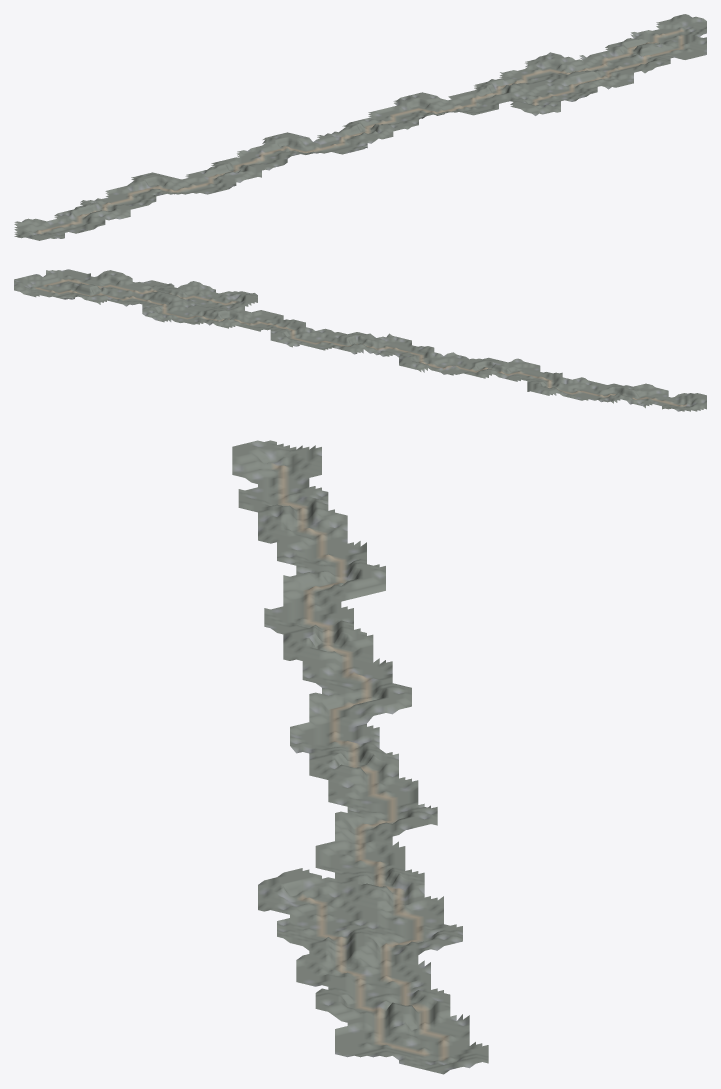
Rendered from terrain.glb.
The picture shows the model from 3 angles, top to bottom: view 1: azimuth 30°, elevation 25°; view 2: azimuth 150°, elevation 25°; view 3: azimuth 270°, elevation 25°; orthographic projection. The views are drawn at different scales.
Parts seen in each view (by area): view 1: NATURAL_10_-2, NATURAL_4_-1, NATURAL_14_-2, NATURAL_15_-2, NATURAL_3_-1, NATURAL_13_-2, NATURAL_12_-1, NATURAL_12_-2, NATURAL_2_-1, NATURAL_13_-1, NATURAL_11_-2, NATURAL_11_-1 (+16 smaller); view 2: NATURAL_13_-2, NATURAL_12_-1, NATURAL_2_-1, NATURAL_12_-2, NATURAL_15_-2, NATURAL_4_-1, NATURAL_11_-1, NATURAL_14_-2, NATURAL_3_-1, NATURAL_16_-2, NATURAL_7_-1, NATURAL_9_-2 (+18 smaller); view 3: NATURAL_12_-2, NATURAL_15_-2, NATURAL_14_-2, NATURAL_11_-1, NATURAL_13_-2, NATURAL_3_-1, NATURAL_12_-1, NATURAL_4_-1, NATURAL_2_-1, NATURAL_5_-1, NATURAL_10_-2, NATURAL_9_-2 (+16 smaller).
Part boxes in pixels (box(x1,y1,x2,y2)): NATURAL_10_-2: box(394, 92, 476, 113); NATURAL_4_-1: box(175, 165, 253, 190); NATURAL_14_-2: box(565, 50, 648, 73); NATURAL_15_-2: box(609, 41, 695, 61); NATURAL_3_-1: box(127, 177, 213, 195); NATURAL_13_-2: box(521, 57, 607, 80); NATURAL_12_-1: box(521, 81, 597, 102); NATURAL_12_-2: box(481, 73, 564, 92); NATURAL_2_-1: box(87, 189, 159, 210); NATURAL_13_-1: box(565, 72, 633, 89); NATURAL_11_-2: box(448, 83, 520, 106); NATURAL_11_-1: box(478, 91, 560, 111); NATURAL_13_-2: box(145, 291, 183, 320); NATURAL_12_-1: box(184, 281, 222, 308); NATURAL_2_-1: box(569, 377, 607, 402); NATURAL_12_-2: box(184, 299, 222, 326); NATURAL_15_-2: box(68, 274, 106, 300); NATURAL_4_-1: box(492, 358, 530, 384); NATURAL_11_-1: box(222, 292, 260, 321); NATURAL_14_-2: box(107, 283, 145, 306); NATURAL_3_-1: box(530, 368, 568, 394); NATURAL_16_-2: box(30, 270, 68, 292); NATURAL_7_-1: box(376, 333, 414, 355); NATURAL_9_-2: box(299, 328, 337, 350); NATURAL_12_-2: box(354, 879, 430, 930); NATURAL_15_-2: box(354, 990, 430, 1049); NATURAL_14_-2: box(354, 946, 430, 1010); NATURAL_11_-1: box(277, 862, 353, 912); NATURAL_13_-2: box(354, 918, 430, 973); NATURAL_3_-1: box(277, 558, 353, 617); NATURAL_12_-1: box(277, 893, 353, 944); NATURAL_4_-1: box(277, 592, 353, 649); NATURAL_2_-1: box(277, 522, 353, 568); NATURAL_5_-1: box(283, 628, 353, 681); NATURAL_10_-2: box(354, 803, 430, 862); NATURAL_9_-2: box(354, 772, 418, 818).
Size of the model in its own units: 380 by 2.9 by 64.8.
